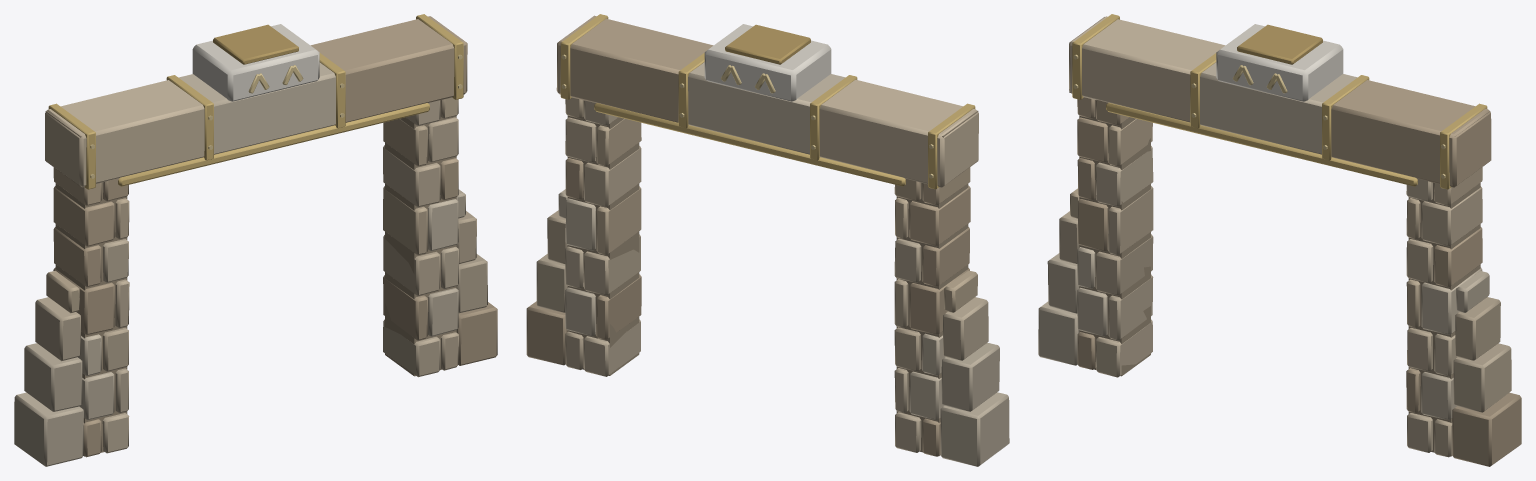
The model's file is mesa_portal.glb.
3 views of the same model, side by side, from view 1: azimuth 30°, elevation 25°; view 2: azimuth 150°, elevation 25°; view 3: azimuth 330°, elevation 25° (orthographic).
Parts seen in each view (by area): view 1: mesa_portal; view 2: mesa_portal; view 3: mesa_portal.
Part boxes in pixels (x1,y1,x2,y2): mesa_portal: (14, 14, 497, 466); mesa_portal: (526, 14, 1009, 466); mesa_portal: (1038, 14, 1521, 466).
Bounding box in the file's own units: 64.24 × 48.64 × 10.2.
